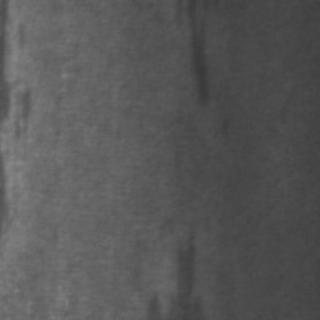inclusion: (170, 0, 224, 118), (156, 221, 208, 317), (1, 77, 44, 157)
